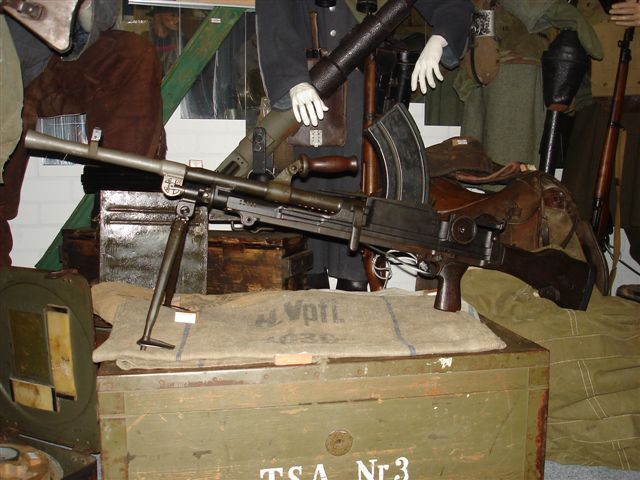rifle: (19, 97, 612, 370)
